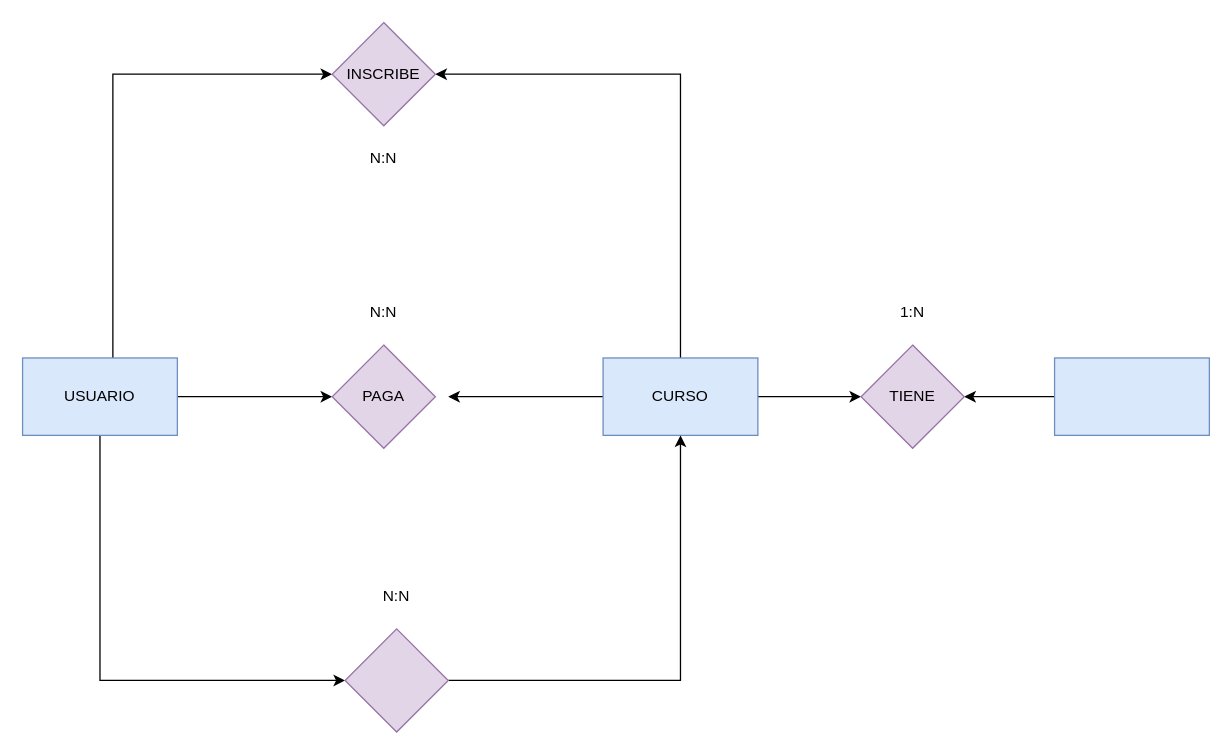
Some shapes in this 1232 by 755 pixel diagram are drawn without their labels. The shapes that lost their labels are listed below. From the top down, each one's centre as x and y in pixels, then its label:
the point at 1131,396: LECCION
the point at 396,680: RESEÑA
